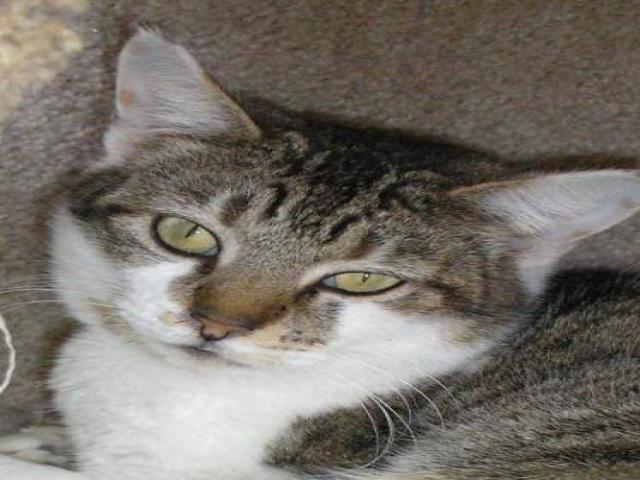cat: (12, 22, 637, 479)
